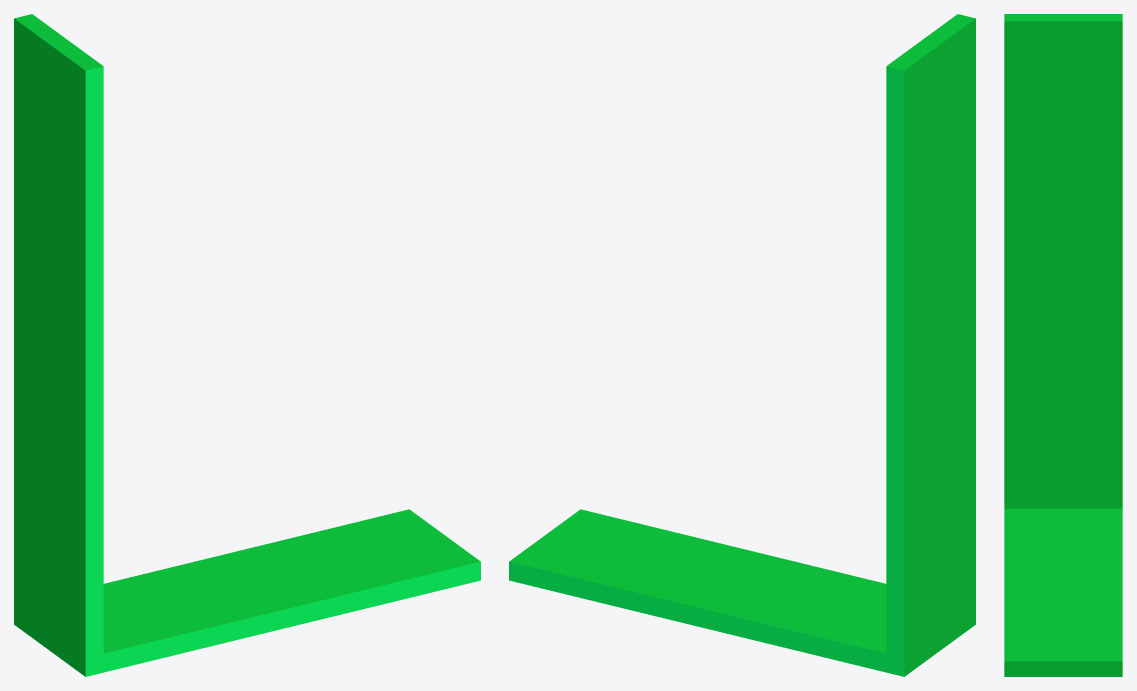
Rendered from 0f932401-b860-44de-b3c3-b92cae9595b3.glb.
3 views of the same model, side by side, from view 1: azimuth 30°, elevation 25°; view 2: azimuth 150°, elevation 25°; view 3: azimuth 270°, elevation 25° (orthographic). The views are drawn at different scales.
Parts seen in each view (by area): view 1: l_AlphaProta_Green; view 2: l_AlphaProta_Green; view 3: l_AlphaProta_Green.
Boxes of the visible parts, <box> form: l_AlphaProta_Green: <box>14,14,480,676</box>; l_AlphaProta_Green: <box>509,14,975,676</box>; l_AlphaProta_Green: <box>1004,14,1122,676</box>.
Size of what is drawn, in the model's own units: 0.1436 by 0.2105 by 0.045.
2 materials, 2 textured.
